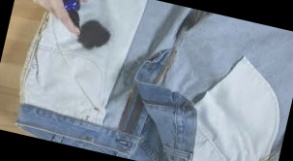ink: (78, 16, 114, 52)
